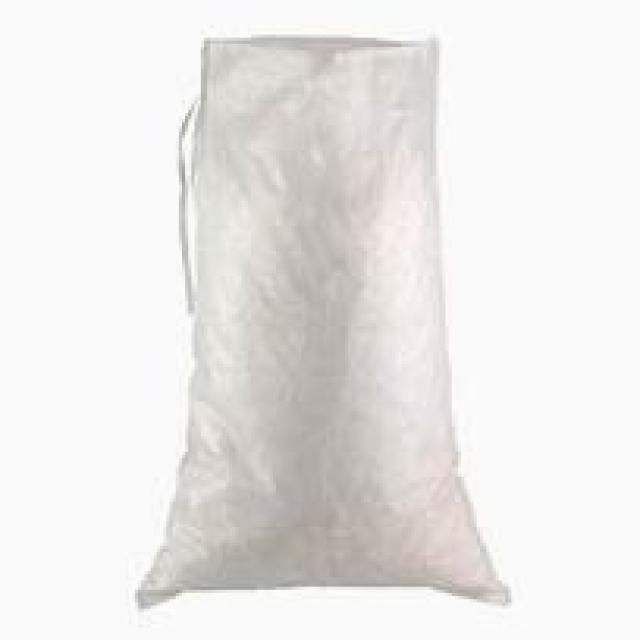gunny_bag: (136, 31, 510, 620)
